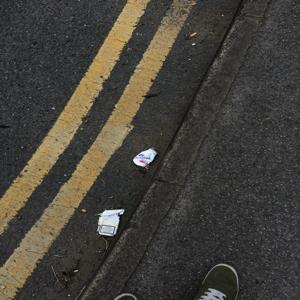cardboard: (93, 199, 131, 241)
plastic: (128, 144, 165, 172)
